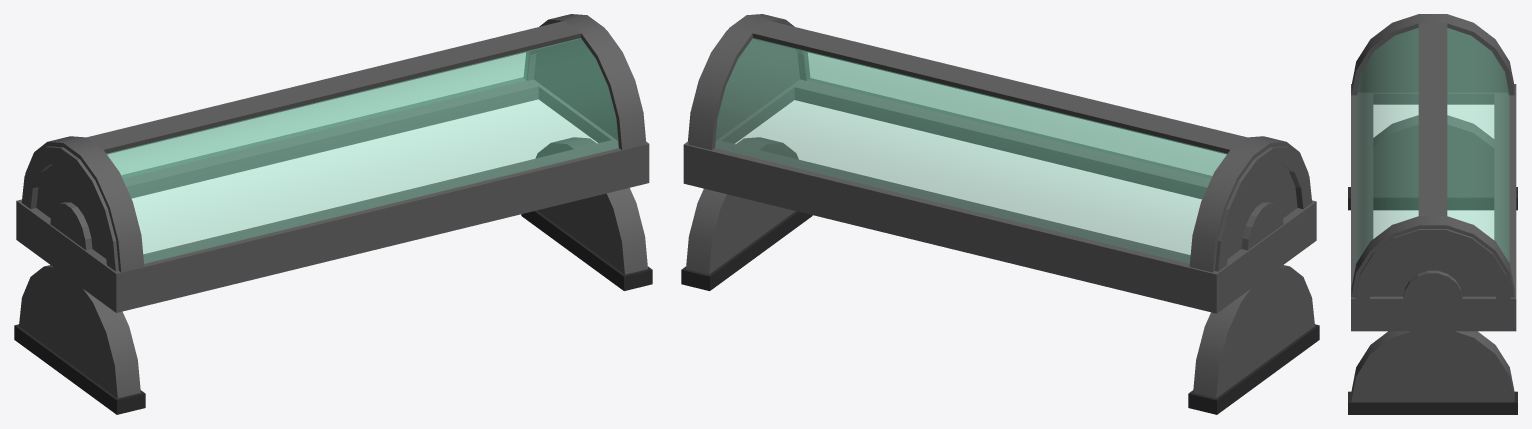
The model's file is tube_glass.glb.
3 views of the same model, side by side, from view 1: azimuth 30°, elevation 25°; view 2: azimuth 150°, elevation 25°; view 3: azimuth 270°, elevation 25° (orthographic). The views are drawn at different scales.
Visible parts, largest first — view 1: Cylinder3986_Material #851_0; view 2: Cylinder3986_Material #851_0; view 3: Cylinder3986_Material #851_0.
Part boxes in pixels (x1=…): Cylinder3986_Material #851_0: x1=14, y1=14, x2=652, y2=414; Cylinder3986_Material #851_0: x1=681, y1=14, x2=1319, y2=414; Cylinder3986_Material #851_0: x1=1348, y1=14, x2=1517, y2=414.
Bounding box in the file's own units: 46.81 × 18.91 × 15.54.
